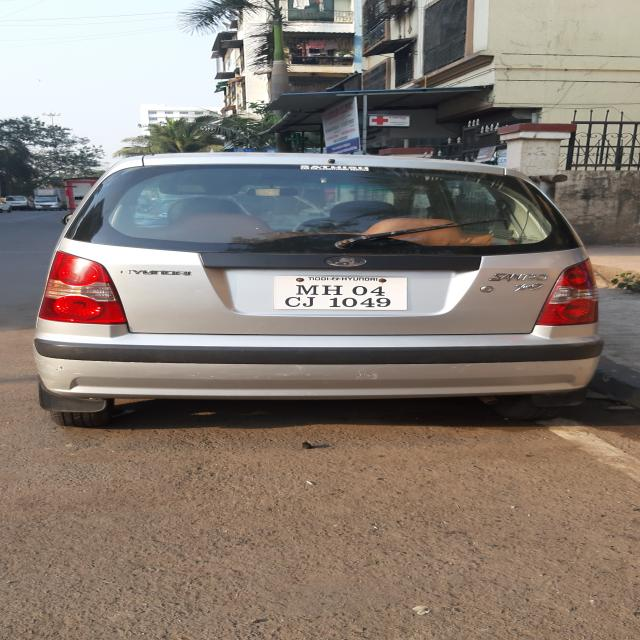Number-Plate: (275, 274, 400, 314)
